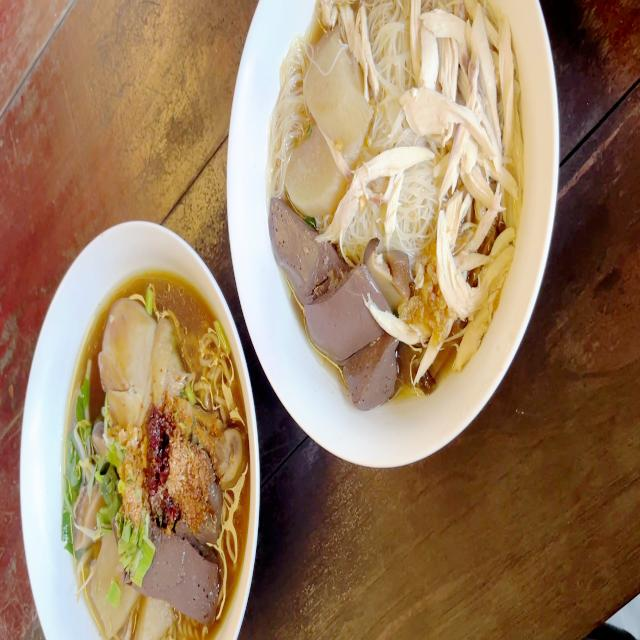boiled_chicken_blood_jelly: (268, 196, 336, 306), (151, 532, 215, 618), (308, 267, 370, 348), (344, 338, 398, 408), (198, 472, 222, 544)
chicken_drumstick: (97, 303, 239, 486)
chicken_shredded: (418, 0, 521, 358), (328, 144, 432, 248), (332, 0, 383, 102)
daikon_radish: (300, 30, 366, 160), (287, 125, 342, 211), (92, 536, 137, 626)
noodle: (268, 0, 528, 388), (57, 279, 245, 640)
